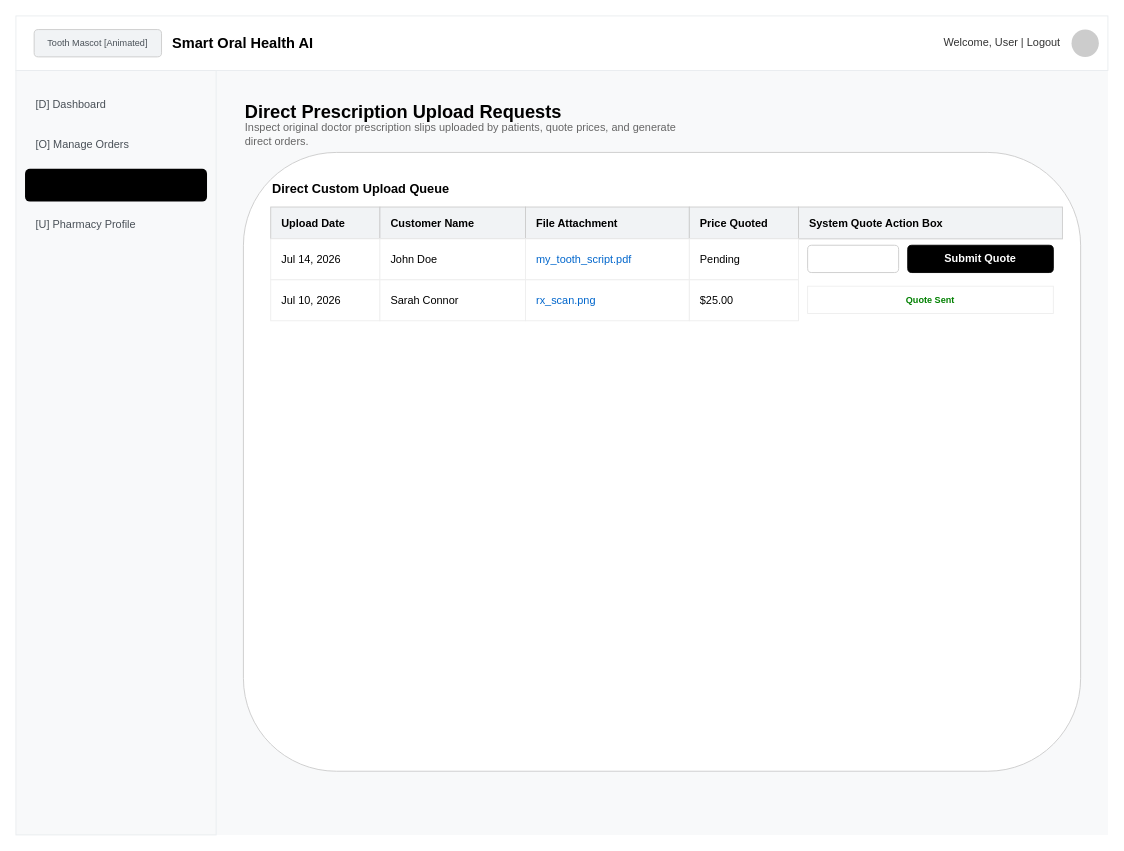
The diagram is 1124 pixels wide and 851 high, and some of its shapes have lost their labels. The centre of each missing label's shape, as x and y in pixels:
"[P] Prescription Uploads" goes at point 116,184.
"Quote Amt ($)" goes at point 853,258.
